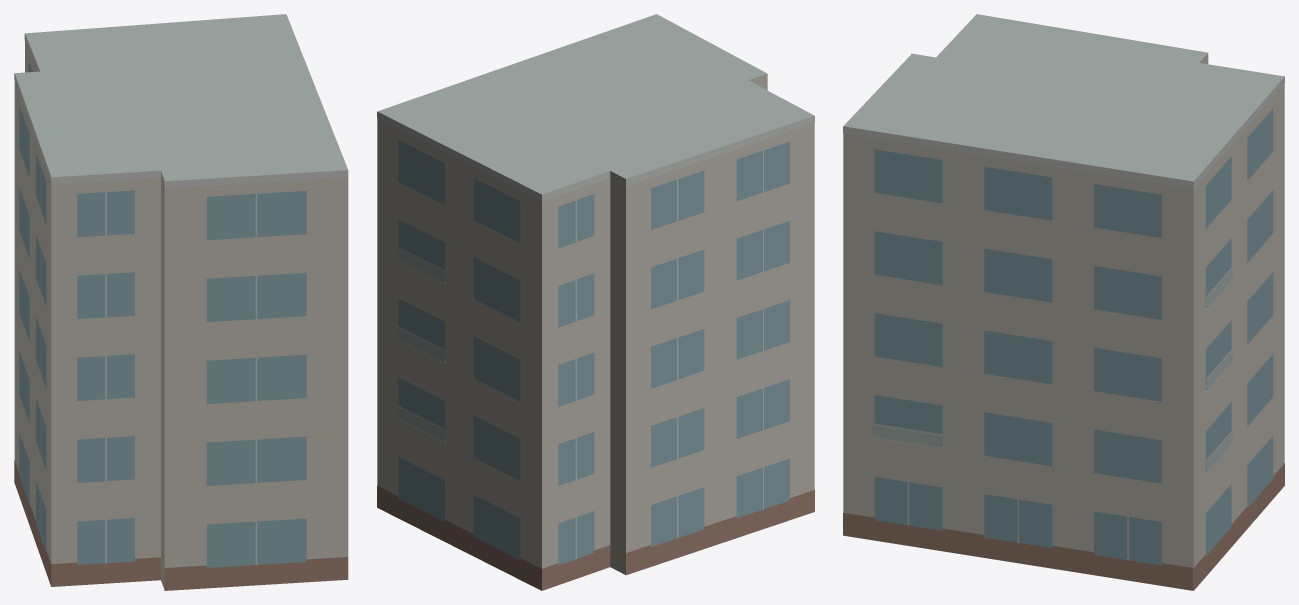
Rendered from survey-upis-32954195.glb.
3 renders of one model, left to right at view 1: azimuth 30°, elevation 25°; view 2: azimuth 150°, elevation 25°; view 3: azimuth 270°, elevation 25°, orthographic. The views are drawn at different scales.
Visible parts, largest first — view 1: survey-upis-32954195.tmp; view 2: survey-upis-32954195.tmp; view 3: survey-upis-32954195.tmp.
Part boxes in pixels (bbox=[...]): survey-upis-32954195.tmp: bbox=[14, 14, 348, 590]; survey-upis-32954195.tmp: bbox=[377, 14, 814, 590]; survey-upis-32954195.tmp: bbox=[843, 14, 1284, 590].
Size of the model in its own units: 12.3 by 14 by 13.7.
